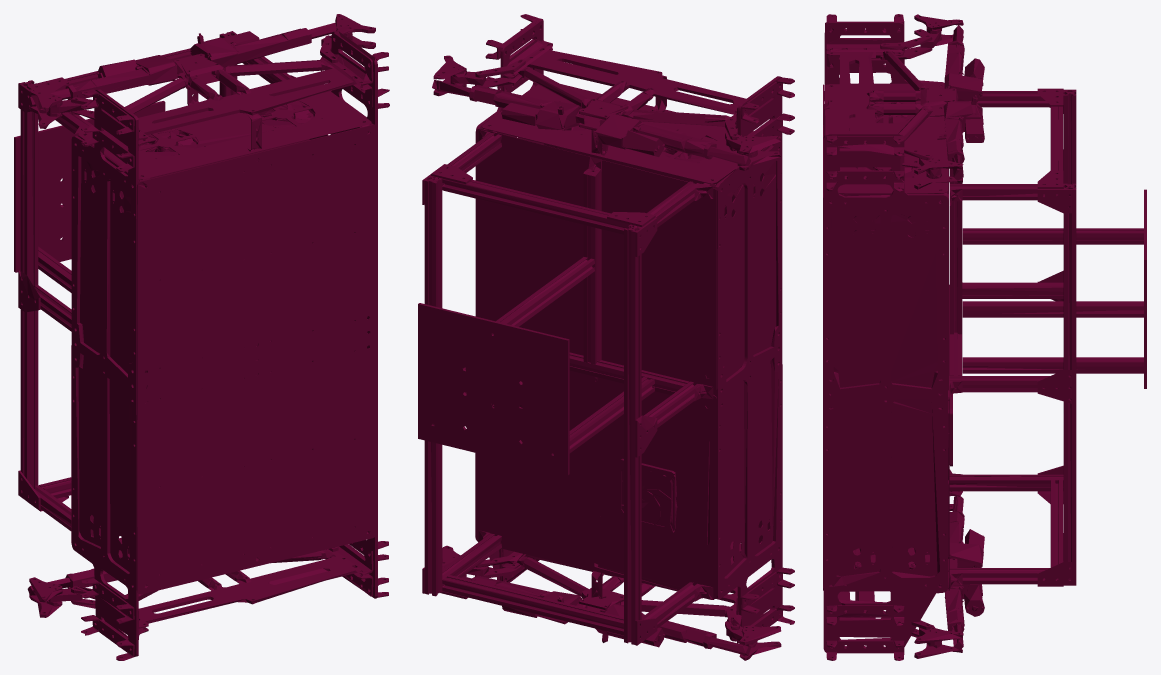
File: tiger_body_ur10_collision.dae
3 views of the same model, side by side, from view 1: azimuth 30°, elevation 25°; view 2: azimuth 150°, elevation 25°; view 3: azimuth 270°, elevation 25° (orthographic). The views are drawn at different scales.
Parts seen in each view (by area): view 1: Tiger_Body_Ur10; view 2: Tiger_Body_Ur10; view 3: Tiger_Body_Ur10.
Part boxes in pixels (x1,y1,x2,y2): Tiger_Body_Ur10: (14,14,389,660); Tiger_Body_Ur10: (418,14,794,660); Tiger_Body_Ur10: (823,14,1146,660).
Bounding box in the file's own units: 0.7195 × 0.6252 × 1.11.
